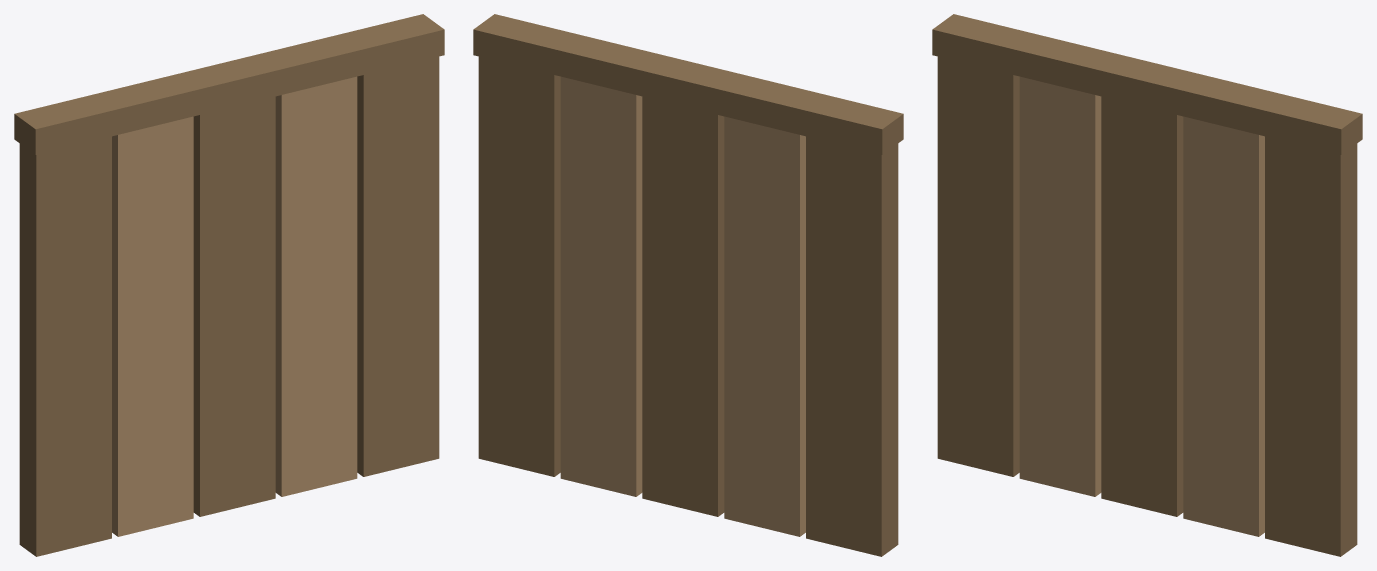
File: wall.glb
3 views of the same model, side by side, from view 1: azimuth 30°, elevation 25°; view 2: azimuth 150°, elevation 25°; view 3: azimuth 330°, elevation 25° (orthographic).
Parts seen in each view (by area): view 1: Plank.004, Plank.008, Plank.007, Plank.006, Plank.005, Beam; view 2: Plank.004, Plank.008, Plank.007, Plank.006, Plank.005, Beam; view 3: Plank.008, Plank.004, Plank.005, Plank.006, Plank.007, Beam.
Part boxes in pixels (x1,y1,x2,y2): Plank.004: (19,136,111,556); Plank.008: (357,56,439,476); Plank.007: (275,76,357,496); Plank.006: (193,96,275,516); Plank.005: (112,116,193,536); Beam: (14,14,444,154); Plank.004: (806,136,898,556); Plank.008: (478,56,560,476); Plank.007: (560,76,642,496); Plank.006: (642,96,724,516); Plank.005: (724,116,805,536); Beam: (473,14,903,154); Plank.008: (1265,136,1357,556); Plank.004: (937,56,1019,476); Plank.005: (1019,76,1101,496); Plank.006: (1101,96,1183,516); Plank.007: (1183,116,1264,536); Beam: (932,14,1362,154).
Size of the model in its own units: 2 by 2.01 by 0.18.
